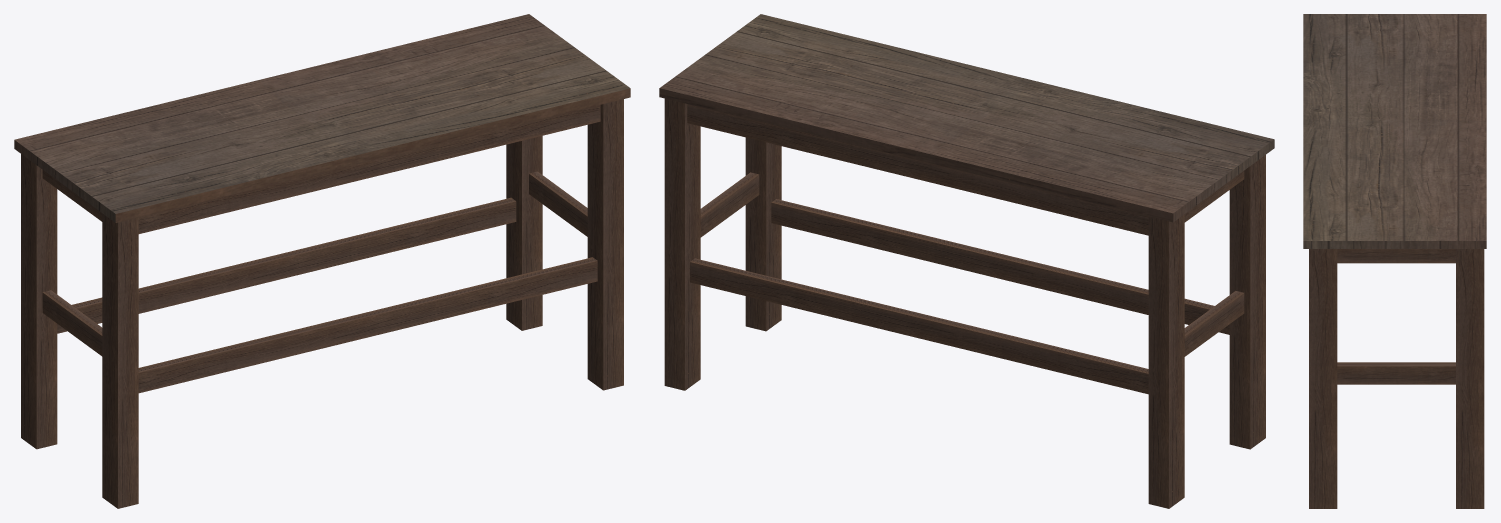
File: jov_shelf06b.fbx
3 renders of one model, left to right at view 1: azimuth 30°, elevation 25°; view 2: azimuth 150°, elevation 25°; view 3: azimuth 270°, elevation 25°, orthographic. The views are drawn at different scales.
Visible parts, largest first — view 1: jov_shelf06b; view 2: jov_shelf06b; view 3: jov_shelf06b.
Boxes of the visible parts, x1,y1,x2,y2 form: jov_shelf06b: (14,14,630,508); jov_shelf06b: (659,14,1274,508); jov_shelf06b: (1303,14,1486,508).
Bounding box in the file's own units: 148 × 82.06 × 50.62.
